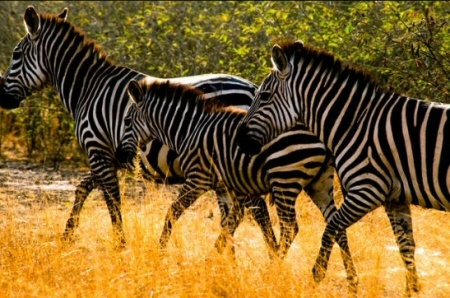zebra: (0, 4, 315, 255), (231, 41, 450, 290), (112, 76, 361, 293)
